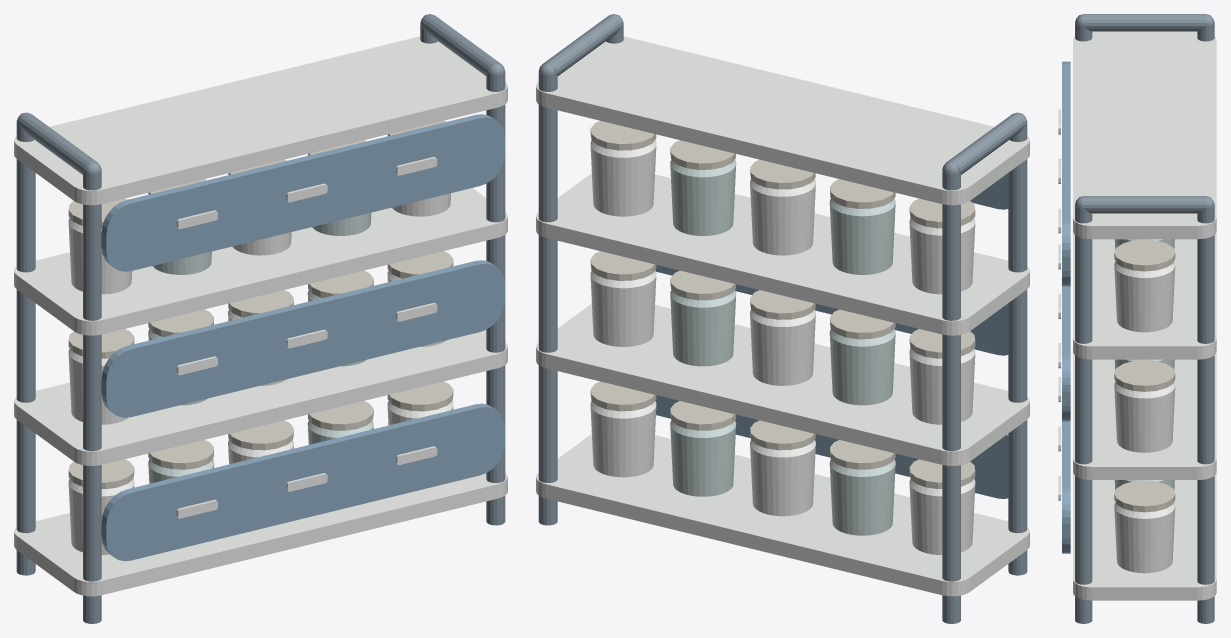
The model's file is parcel_station.glb.
3 renders of one model, left to right at view 1: azimuth 30°, elevation 25°; view 2: azimuth 150°, elevation 25°; view 3: azimuth 270°, elevation 25°, orthographic. The views are drawn at different scales.
Parts seen in each view (by area): view 1: decor_d8dcd8_matte, decor_476a8a_matte, decor_455665_metal, decor_aaa493_matte, decor_9bb7b5_matte; view 2: decor_d8dcd8_matte, decor_455665_metal, decor_9bb7b5_matte, decor_aaa493_matte, decor_476a8a_matte; view 3: decor_d8dcd8_matte, decor_455665_metal, decor_aaa493_matte, decor_476a8a_matte, decor_9bb7b5_matte.
Boxes of the visible parts, x1,y1,x2,y2 form: decor_d8dcd8_matte: [14, 36, 507, 596]; decor_476a8a_matte: [101, 114, 504, 561]; decor_455665_metal: [16, 14, 505, 623]; decor_aaa493_matte: [68, 120, 453, 488]; decor_9bb7b5_matte: [148, 212, 373, 483]; decor_d8dcd8_matte: [536, 36, 1029, 596]; decor_455665_metal: [538, 14, 1027, 623]; decor_9bb7b5_matte: [670, 160, 895, 535]; decor_aaa493_matte: [590, 120, 975, 488]; decor_476a8a_matte: [655, 173, 1008, 498]; decor_d8dcd8_matte: [1058, 31, 1216, 600]; decor_455665_metal: [1075, 14, 1214, 623]; decor_aaa493_matte: [1114, 239, 1175, 512]; decor_476a8a_matte: [1062, 61, 1070, 553]; decor_9bb7b5_matte: [1114, 239, 1174, 490].
Bounding box in the file's own units: 1.73 × 1.76 × 0.595.
